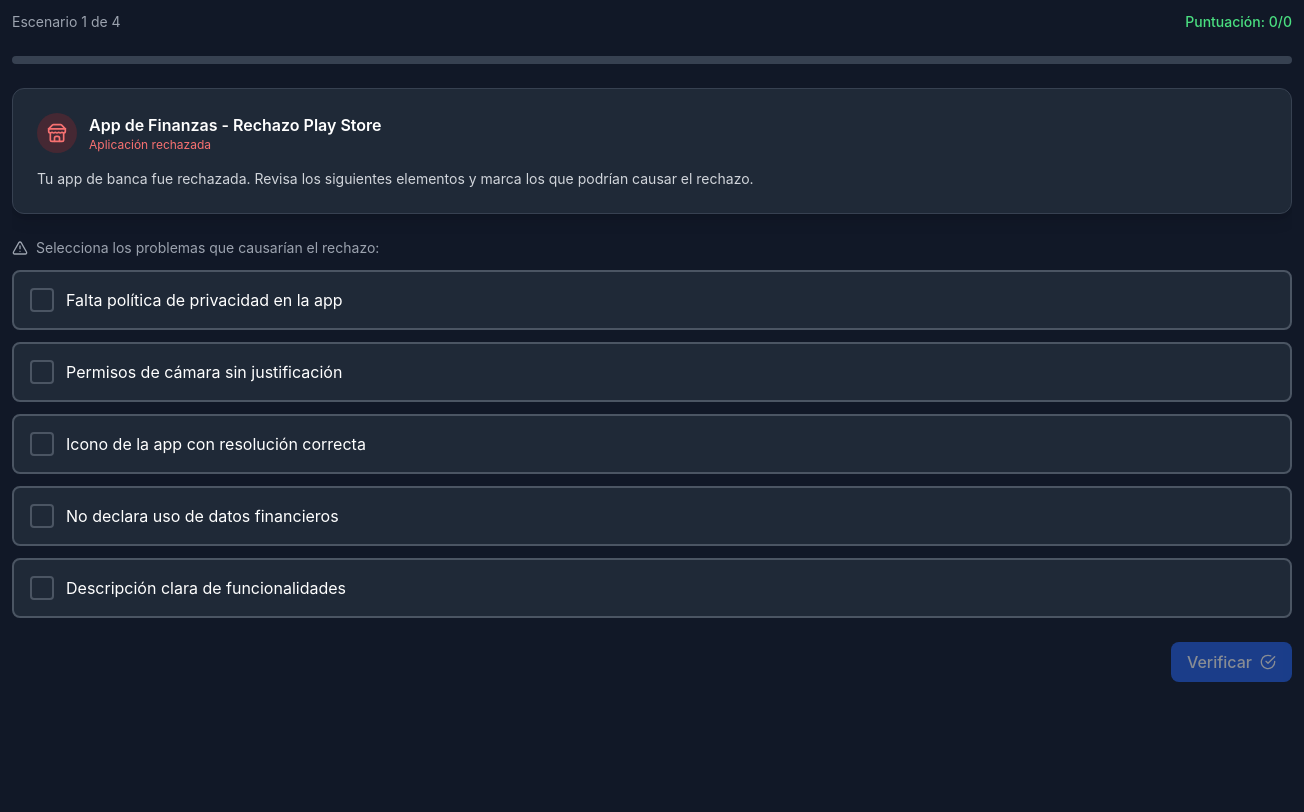
Test: StoreReviewer › verification › should enable verify button when issues selected
Click the button "Falta política de privacidad en la app": (204, 300) [12,270,1292,330]
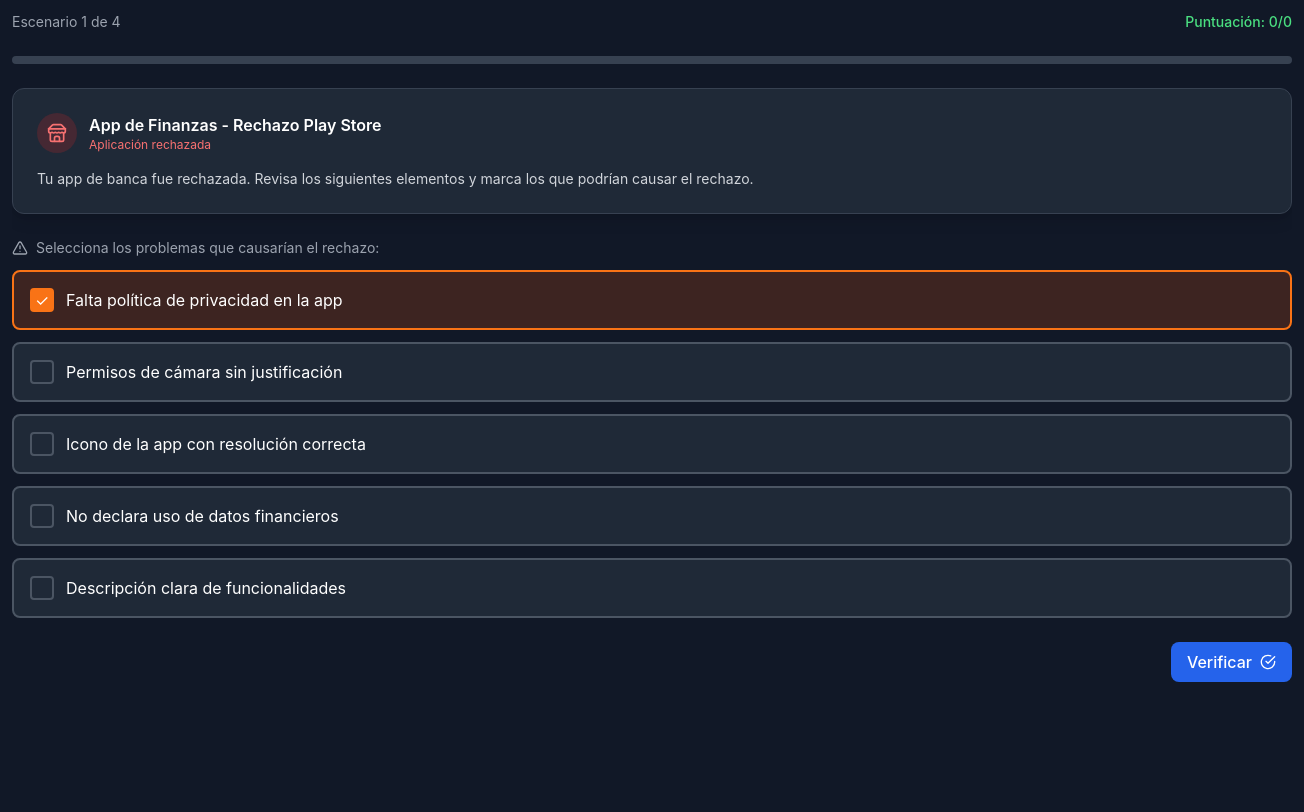
expect the button "Verificar" is enabled: met, box [1171,642,1292,682]
